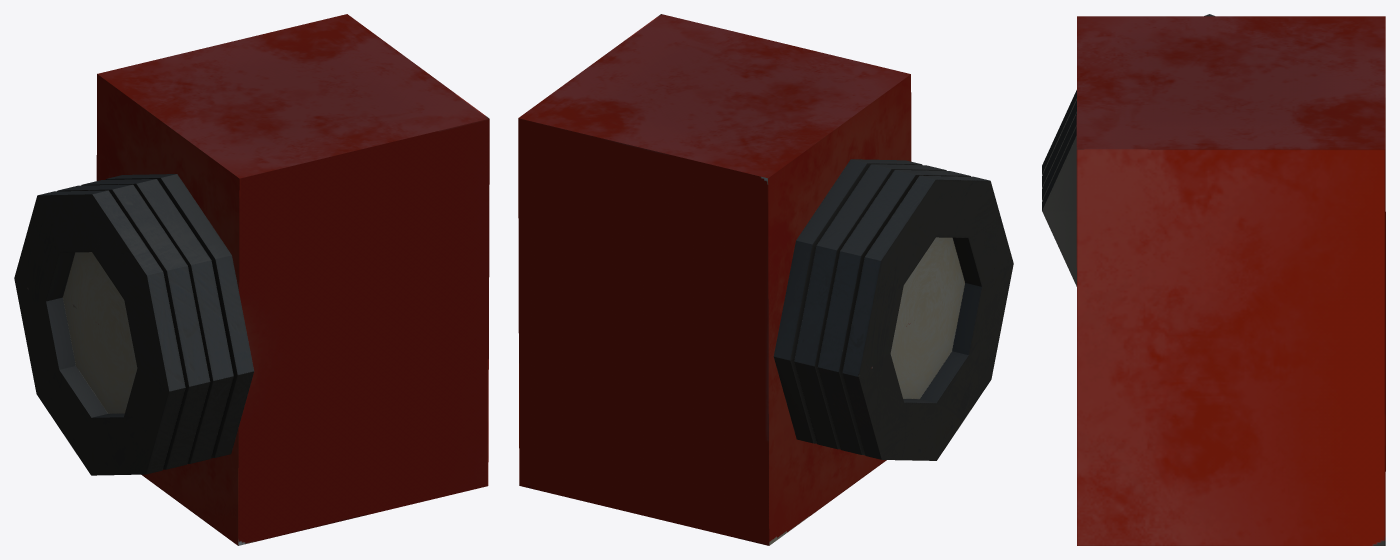
Rendered from L_ARM.obj.
The picture shows the model from 3 angles, left to right: view 1: azimuth 30°, elevation 25°; view 2: azimuth 150°, elevation 25°; view 3: azimuth 270°, elevation 25°; orthographic projection. The views are drawn at different scales.
Visible parts, largest first — view 1: pasted__pCube52 group7 group, group7 group pasted__pCylinder31; view 2: pasted__pCube52 group7 group, group7 group pasted__pCylinder31; view 3: pasted__pCube52 group7 group, group7 group pasted__pCylinder31.
Part boxes in pixels (x1,y1,x2,y2): pasted__pCube52 group7 group: (96,14,489,545); group7 group pasted__pCylinder31: (14,174,254,475); pasted__pCube52 group7 group: (518,14,911,545); group7 group pasted__pCylinder31: (773,159,1013,460); pasted__pCube52 group7 group: (1076,16,1385,545); group7 group pasted__pCylinder31: (1042,14,1214,286).
Bounding box in the file's own units: 1.55 × 1.62 × 1.27.
1 material, 1 textured.
